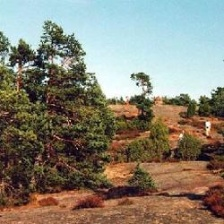neutral: (1, 6, 221, 224)
